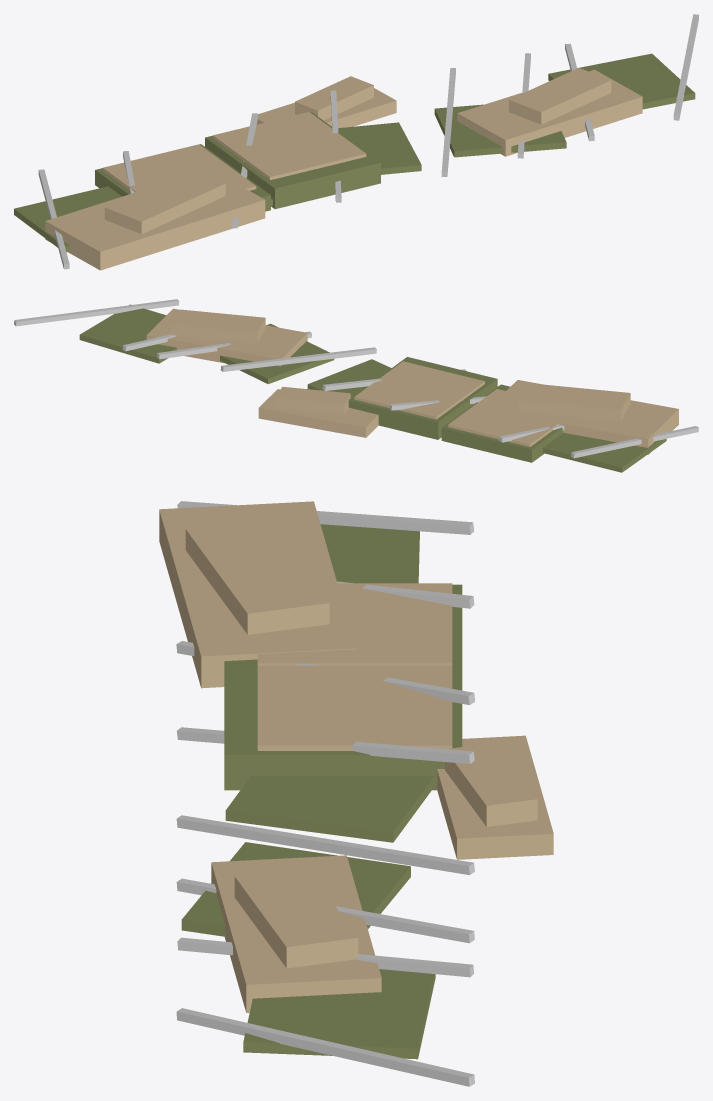
Rendered from SM_HescoCorto4_v2_Escalonado_e3_Brecha_LOD0.fbx.
The picture shows the model from 3 angles, top to bottom: view 1: azimuth 30°, elevation 25°; view 2: azimuth 150°, elevation 25°; view 3: azimuth 270°, elevation 25°; orthographic projection. The views are drawn at different scales.
Parts seen in each view (by area): view 1: SM_hesco_piezas_v111_LOD0; view 2: SM_hesco_piezas_v111_LOD0; view 3: SM_hesco_piezas_v111_LOD0.
Part boxes in pixels (x1,y1,x2,y2): SM_hesco_piezas_v111_LOD0: [14, 14, 698, 270]; SM_hesco_piezas_v111_LOD0: [14, 299, 698, 472]; SM_hesco_piezas_v111_LOD0: [159, 501, 553, 1086].
Bounding box in the file's own units: 7.26 × 0.3263 × 2.02.
